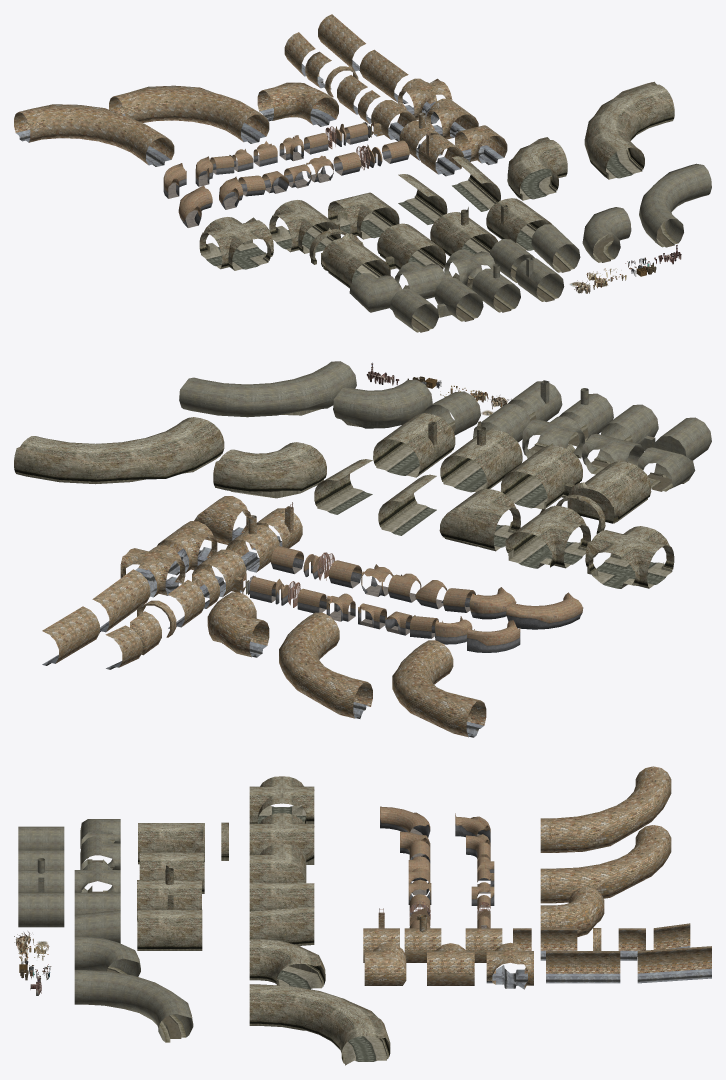
The model's file is Sewer1.glb.
3 renders of one model, top to bottom at view 1: azimuth 30°, elevation 25°; view 2: azimuth 150°, elevation 25°; view 3: azimuth 270°, elevation 25°, orthographic. The views are drawn at different scales.
Parts seen in each view (by area): view 1: Serwers_015, Serwers01_011, Serwers_014, Serwers02_007, Serwers01_003, Serwers01_010, Serwers_013, Serwers01_002, Serwers01_005, Serwers01, Serwers01_004, Serwers01_006 (+29 smaller); view 2: Serwers01_011, Serwers02_007, Serwers_014, Serwers_015, Serwers01_010, Serwers01_003, Serwers01_002, Serwers01_008, Serwers01_006, Serwers01_004, Serwers02_006, Serwers01_005 (+36 smaller); view 3: Serwers01_011, Serwers_015, Serwers_014, Serwers02_007, Serwers01_010, Serwers01_008, Serwers_004, Serwers_003, Serwers01_003, Serwers01_009, Serwers01_002, Serwers_013 (+26 smaller).
Boxes of the visible parts, x1,y1,x2,y2 form: Serwers_015: (14, 104, 174, 166); Serwers01_011: (584, 81, 674, 179); Serwers_014: (109, 85, 269, 143); Serwers02_007: (639, 163, 711, 247); Serwers01_003: (199, 217, 273, 270); Serwers01_010: (507, 137, 567, 200); Serwers_013: (257, 82, 338, 126); Serwers01_002: (269, 200, 340, 253); Serwers01_005: (328, 192, 399, 239); Serwers01: (321, 233, 390, 288); Serwers01_004: (377, 223, 445, 269); Serwers01_006: (430, 207, 497, 256); Serwers01_011: (14, 417, 224, 484); Serwers02_007: (179, 361, 356, 417); Serwers_014: (279, 612, 372, 718); Serwers_015: (392, 640, 486, 737); Serwers01_010: (213, 442, 326, 498); Serwers01_003: (585, 526, 674, 588); Serwers01_002: (505, 505, 590, 568); Serwers01_008: (373, 413, 455, 477); Serwers01_006: (440, 421, 522, 492); Serwers01_004: (500, 445, 582, 509); Serwers02_006: (333, 379, 432, 428); Serwers01_005: (439, 488, 520, 551); Serwers01_011: (249, 984, 390, 1065); Serwers_015: (540, 766, 671, 852); Serwers_014: (540, 825, 671, 903); Serwers02_007: (74, 970, 193, 1042); Serwers01_010: (249, 939, 325, 989); Serwers01_008: (137, 895, 202, 950); Serwers_004: (637, 946, 711, 983); Serwers_003: (546, 951, 620, 983); Serwers01_003: (249, 776, 314, 823); Serwers01_009: (249, 906, 314, 945); Serwers01_002: (249, 813, 314, 864); Serwers_013: (540, 887, 604, 936).
Bounding box in the file's own units: 118 × 11.55 × 129.
23 materials, 23 textured.
